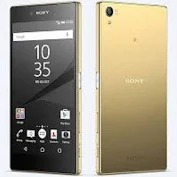sony: (95, 1, 170, 177), (7, 1, 82, 176)
